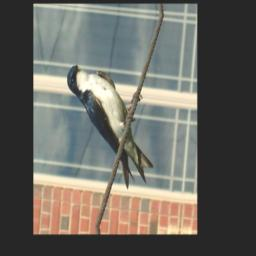Swallow: (58, 62, 162, 192)
